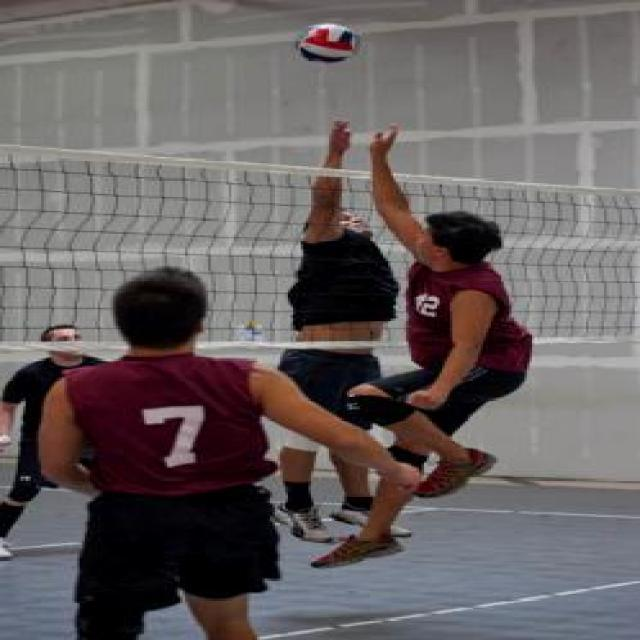volleyball: (296, 22, 360, 64)
